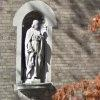Statue: (18, 5, 51, 89)
